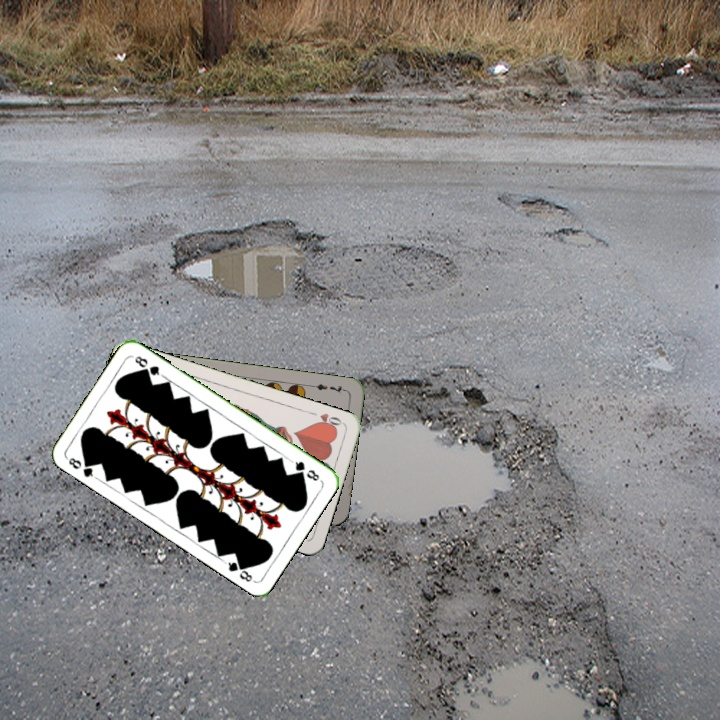E7: (308, 380, 349, 396)
G8: (63, 453, 99, 481), (287, 456, 322, 484)
HO: (306, 408, 346, 432)
